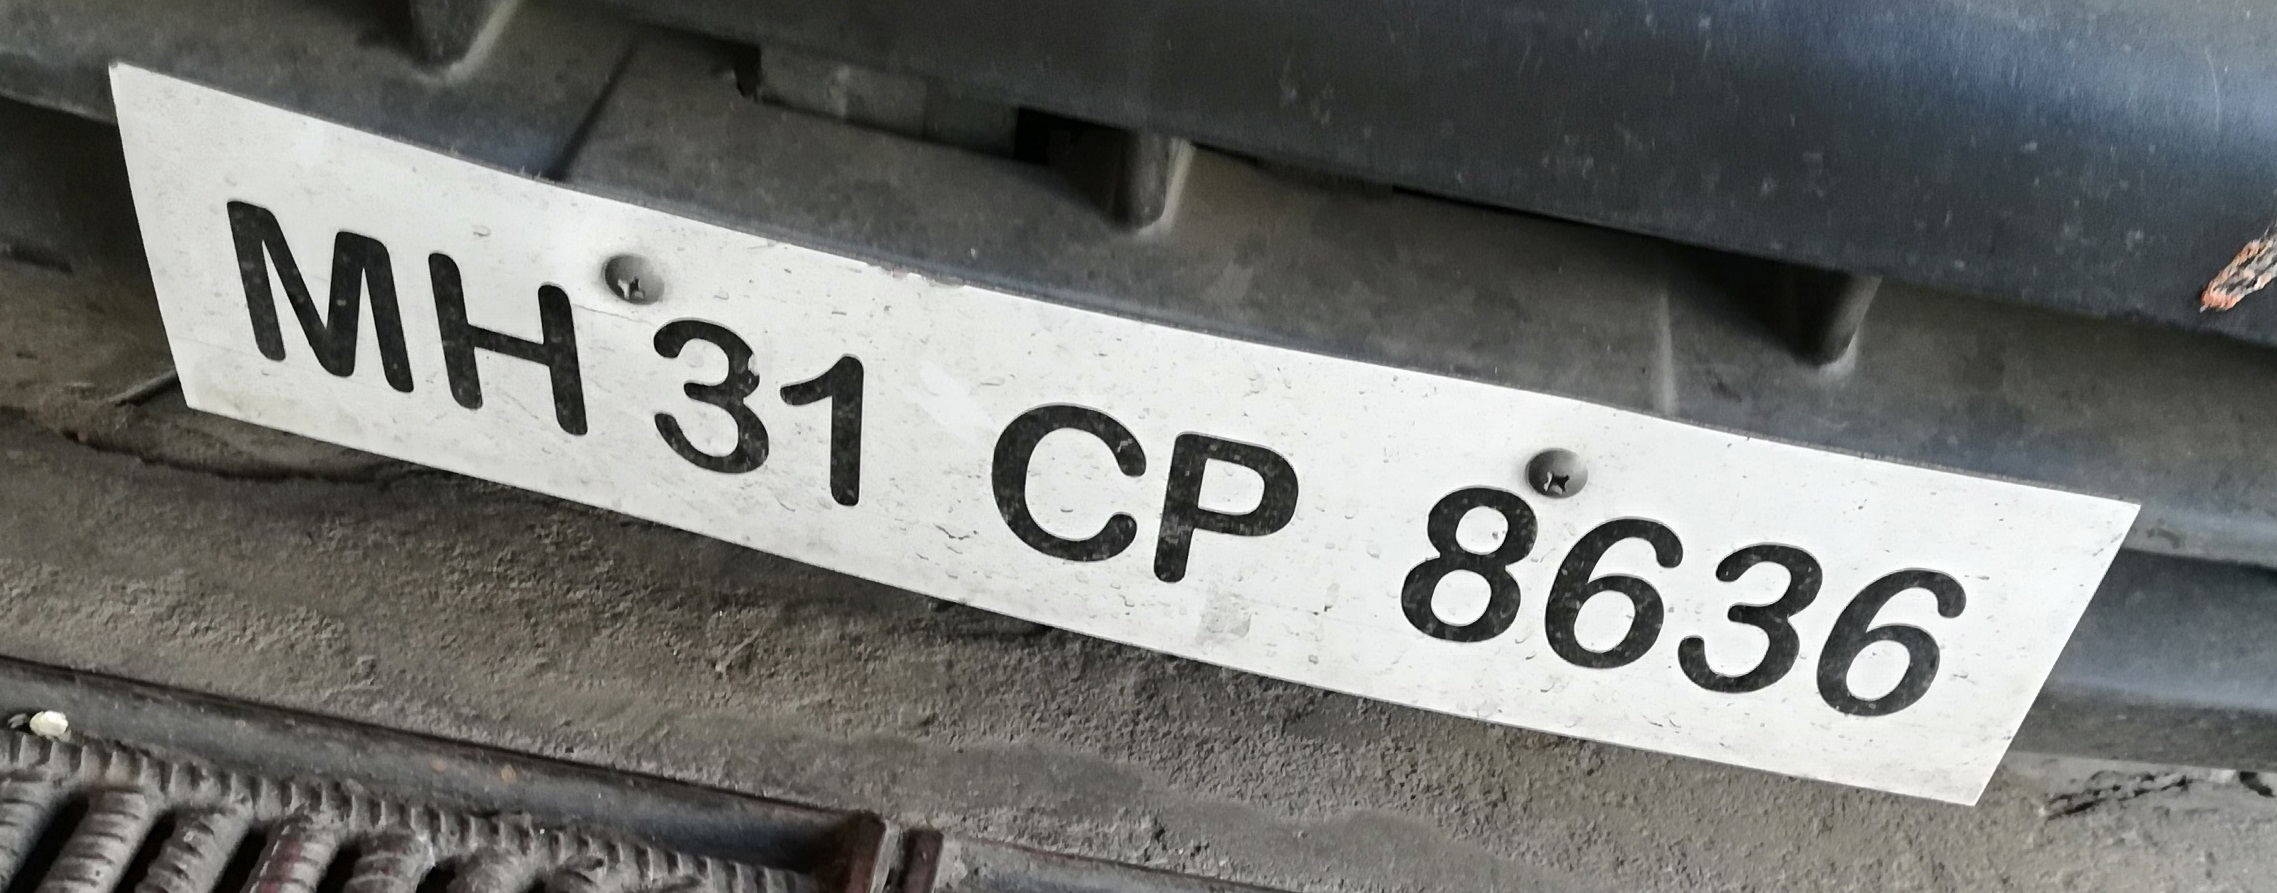numberplate: (93, 43, 2154, 813)
